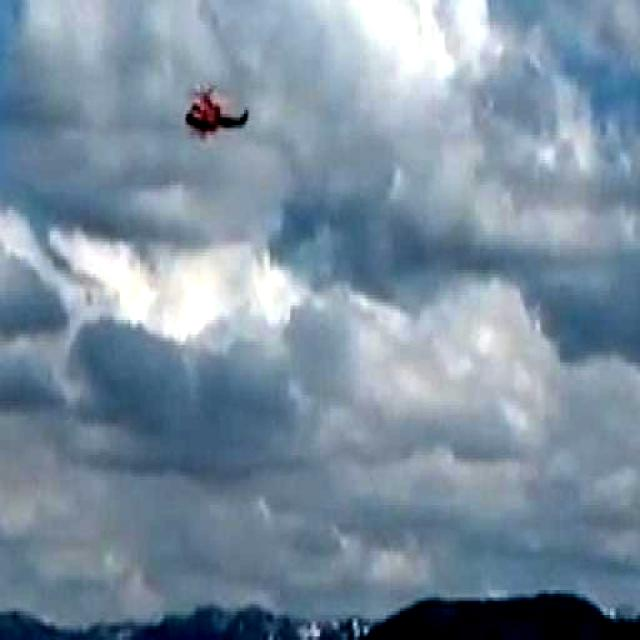drone: (181, 75, 251, 146)
